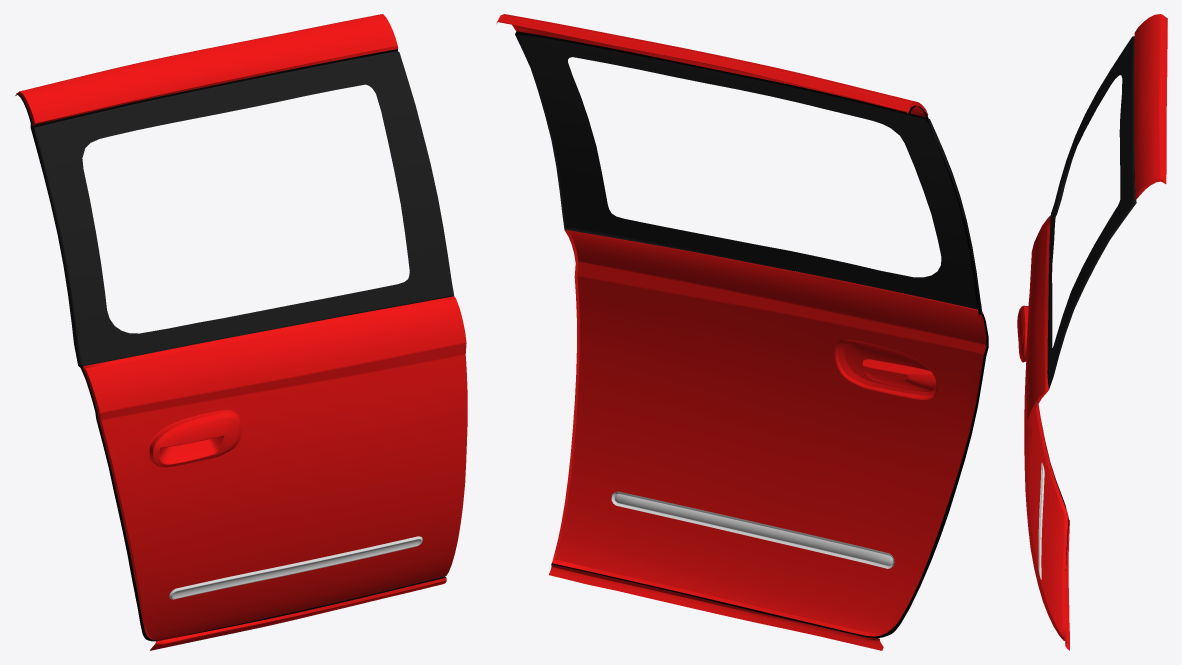
3 views of the same model, side by side, from view 1: azimuth 30°, elevation 25°; view 2: azimuth 150°, elevation 25°; view 3: azimuth 270°, elevation 25° (orthographic). The views are drawn at different scales.
Parts seen in each view (by area): view 1: N664_9A_321B_R_1_DaS_N664_9A_321B_R, N664_9A_321B_R_N664_9A_321B_R_2_D, N664_9A_321B_R_1_DaS_N664_9A_321B_R_E, N664_9A_321B_R_N664_9A_321B_R_4_D, N664_9A_321B_R_N664_9A_321B_R_3_DaS; view 2: N664_9A_321B_R_1_DaS_N664_9A_321B_R, N664_9A_321B_R_N664_9A_321B_R_2_D, N664_9A_321B_R_1_DaS_N664_9A_321B_R_E, N664_9A_321B_R_N664_9A_321B_R_3_DaS, N664_9A_321B_R_N664_9A_321B_R_4_D; view 3: N664_9A_321B_R_1_DaS_N664_9A_321B_R, N664_9A_321B_R_N664_9A_321B_R_2_D, N664_9A_321B_R_1_DaS_N664_9A_321B_R_E, N664_9A_321B_R_N664_9A_321B_R_3_DaS.
Boxes of the visible parts, box(x1,y1,x2,y2) form: N664_9A_321B_R_1_DaS_N664_9A_321B_R: box(20, 14, 467, 650); N664_9A_321B_R_N664_9A_321B_R_2_D: box(34, 51, 453, 366); N664_9A_321B_R_1_DaS_N664_9A_321B_R_E: box(16, 46, 455, 644); N664_9A_321B_R_N664_9A_321B_R_4_D: box(15, 49, 445, 641); N664_9A_321B_R_N664_9A_321B_R_3_DaS: box(169, 536, 422, 599); N664_9A_321B_R_1_DaS_N664_9A_321B_R: box(498, 14, 986, 650); N664_9A_321B_R_N664_9A_321B_R_2_D: box(515, 34, 981, 311); N664_9A_321B_R_1_DaS_N664_9A_321B_R_E: box(496, 21, 982, 640); N664_9A_321B_R_N664_9A_321B_R_3_DaS: box(611, 491, 894, 568); N664_9A_321B_R_N664_9A_321B_R_4_D: box(515, 31, 988, 638); N664_9A_321B_R_1_DaS_N664_9A_321B_R: box(1017, 14, 1166, 650); N664_9A_321B_R_N664_9A_321B_R_2_D: box(1047, 36, 1136, 389); N664_9A_321B_R_1_DaS_N664_9A_321B_R_E: box(1022, 18, 1167, 645); N664_9A_321B_R_N664_9A_321B_R_3_DaS: box(1038, 462, 1044, 579).
Size of the model in its own units: 101 by 140 by 40.04.
